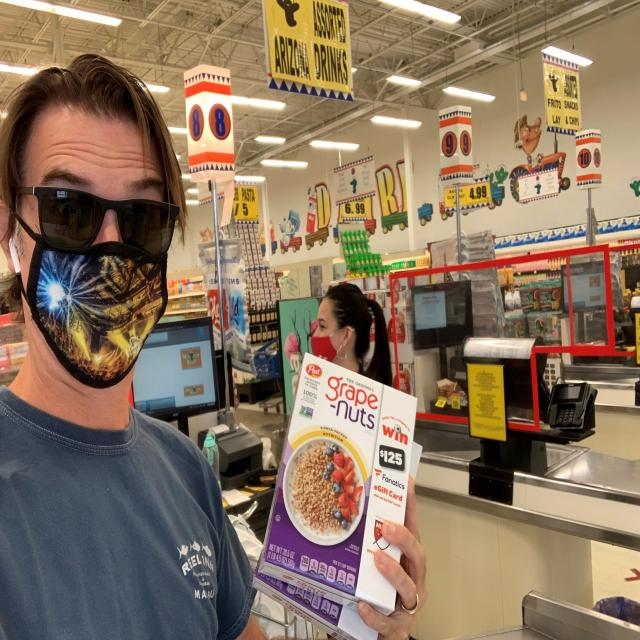Cerealbox: (252, 352, 426, 638)
